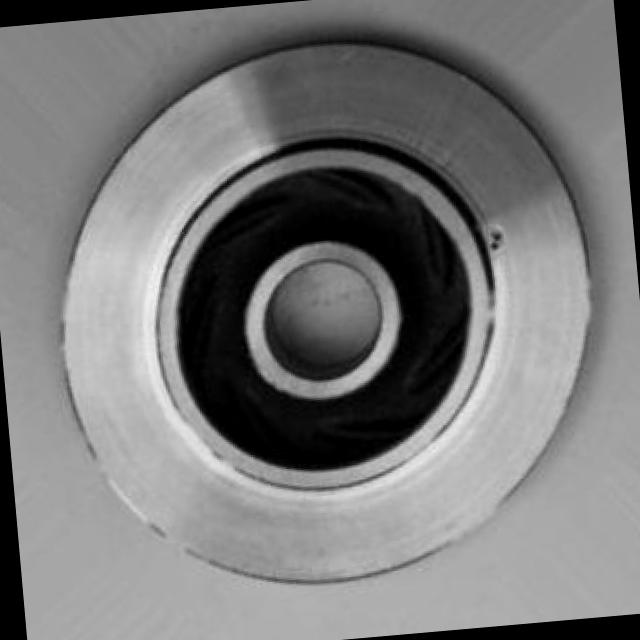Defect: (487, 222, 512, 257)
